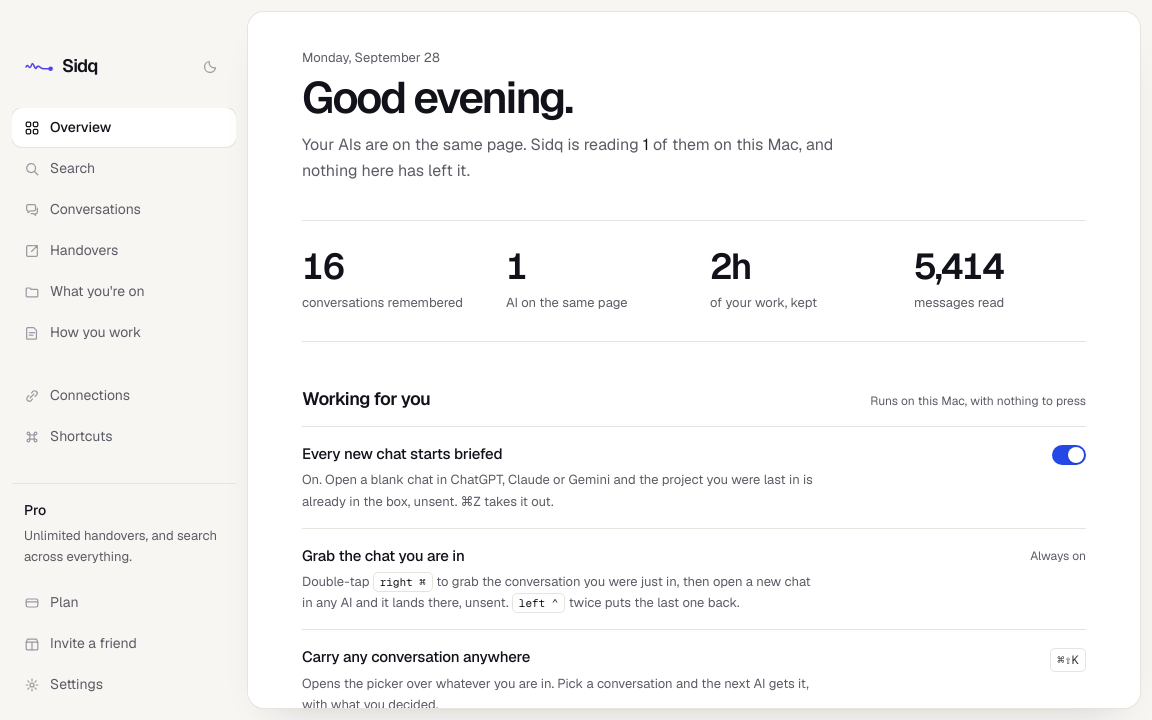
Scenario: the panel headings › an unlimited plan says what was used, since there is nothing to count down from
Step 1. Click the button "Plan" → (124, 602), box top-left (12, 583), bottom-right (236, 622)
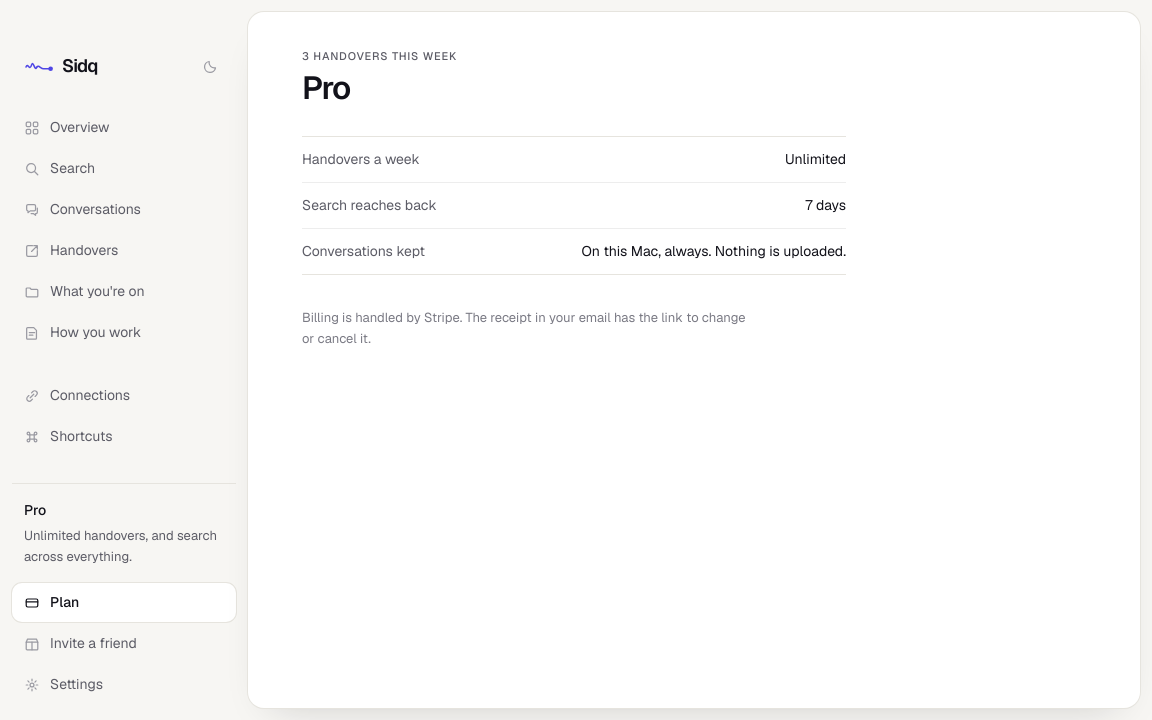
Now the text "3 HANDOVERS THIS WEEK" is shown, box top-left (302, 49), bottom-right (457, 63)
